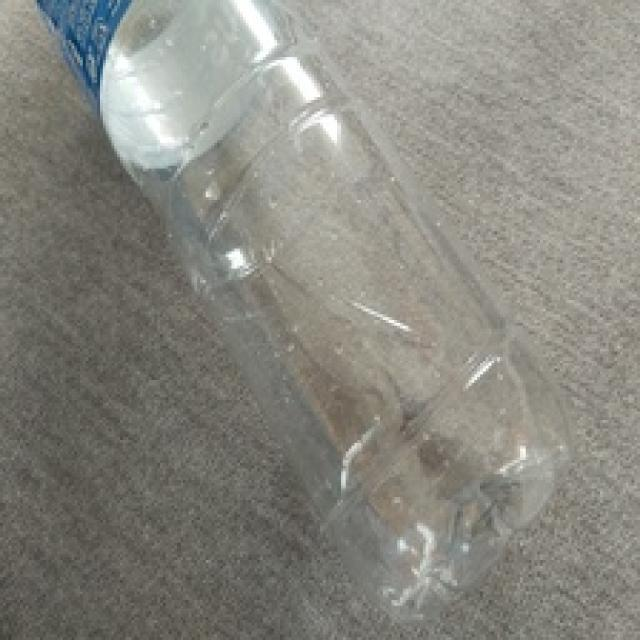Plastic: (39, 0, 577, 626)
